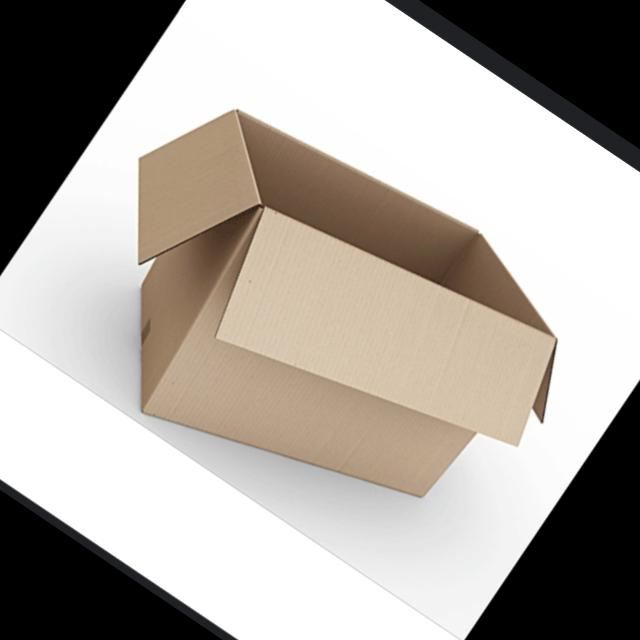Kardus: (22, 48, 614, 602)
